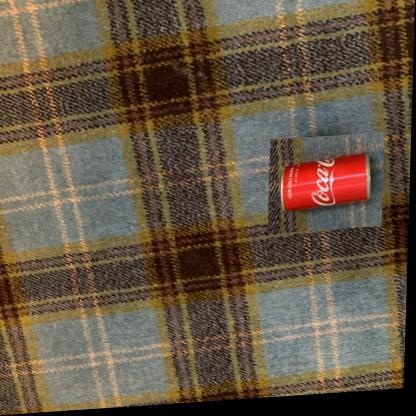trash: (281, 154, 369, 209)
